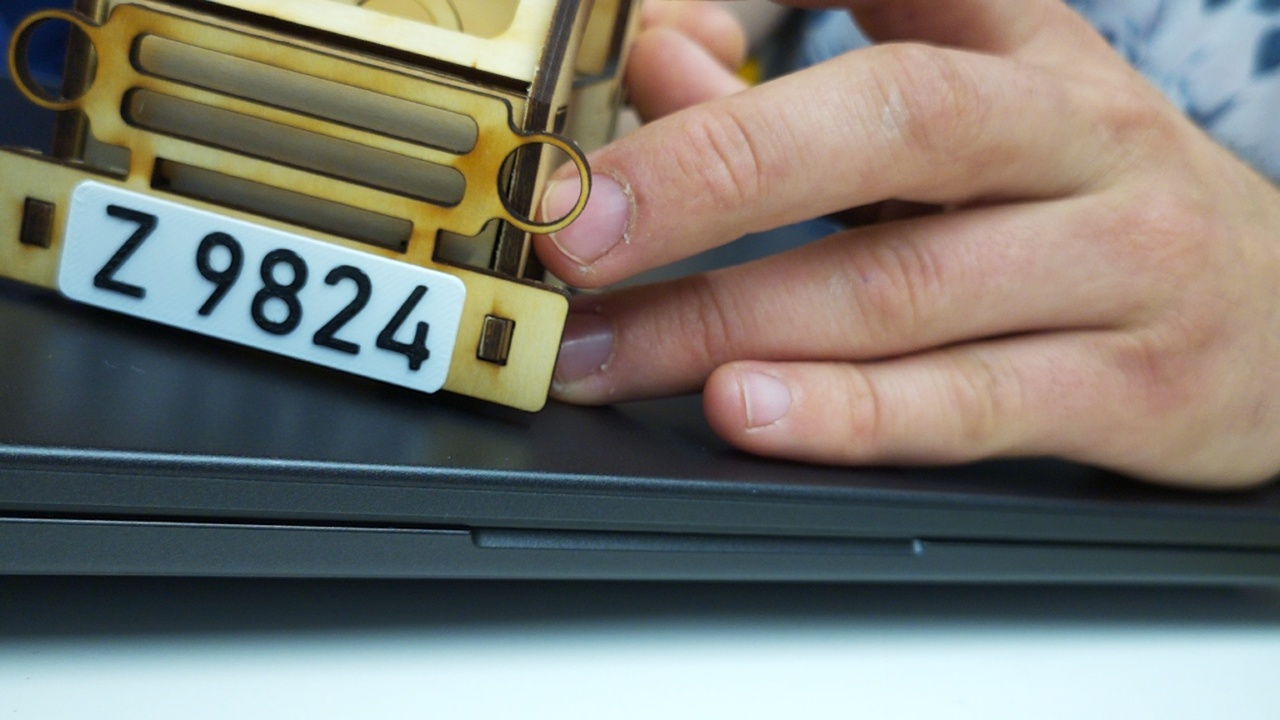license_plate: (55, 175, 471, 397)
